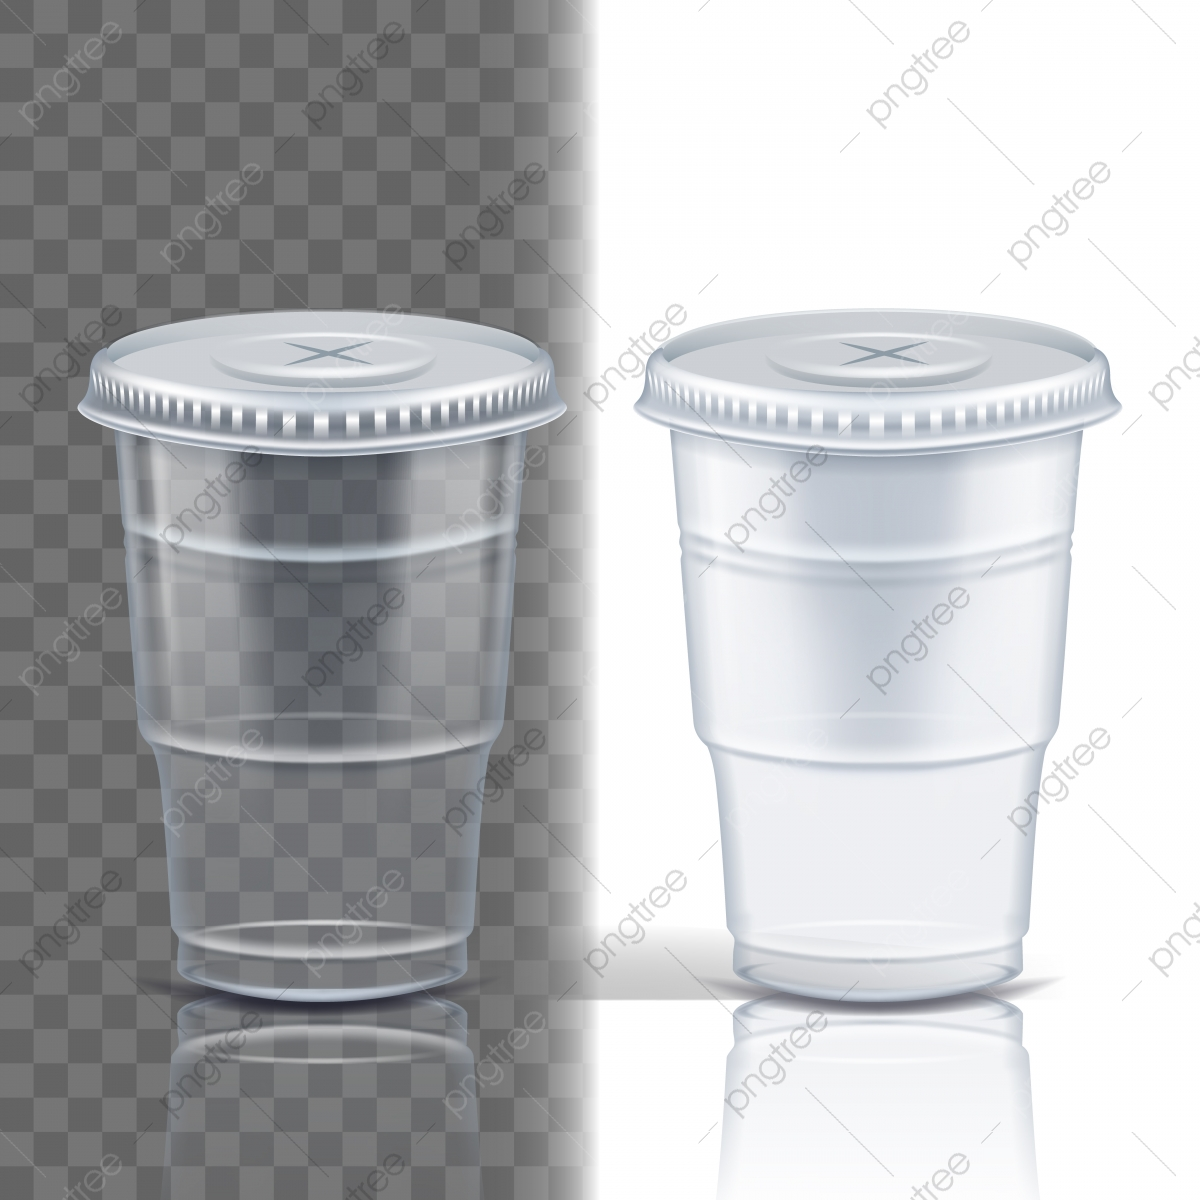plastic_bottle: (621, 300, 1130, 1021), (73, 299, 573, 1029)
